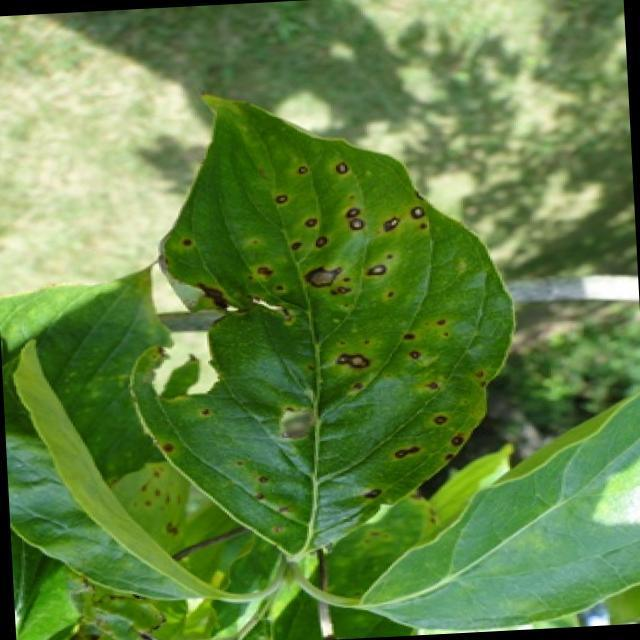Bacterial Spot: (228, 150, 462, 488)
